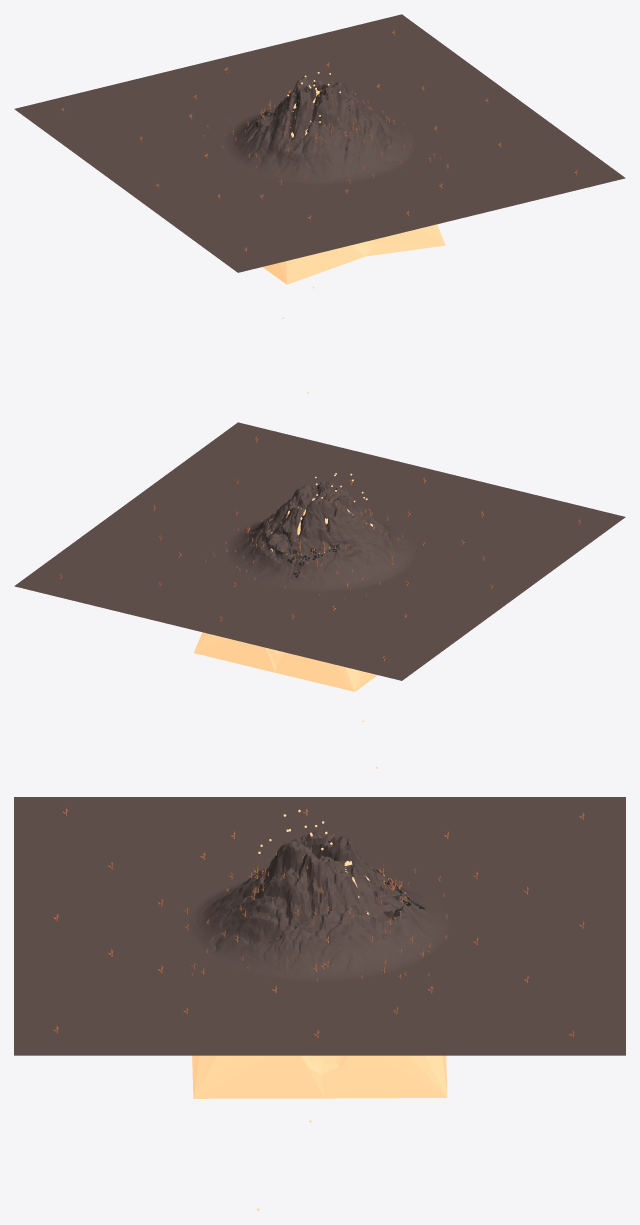
The model's file is volcanofull.fbx.
The picture shows the model from 3 angles, top to bottom: view 1: azimuth 30°, elevation 25°; view 2: azimuth 150°, elevation 25°; view 3: azimuth 270°, elevation 25°; orthographic projection. The views are drawn at different scales.
Parts seen in each view (by area): view 1: Landscape.001, Landscape.002; view 2: Landscape.001, Landscape.002; view 3: Landscape.001, Landscape.002.
Part boxes in pixels (bbox=[...]): Landscape.001: bbox=[14, 14, 625, 272]; Landscape.002: bbox=[263, 89, 445, 284]; Landscape.001: bbox=[14, 422, 625, 680]; Landscape.002: bbox=[194, 498, 377, 691]; Landscape.001: bbox=[14, 797, 625, 1055]; Landscape.002: bbox=[192, 861, 447, 1098].
Bounding box in the file's own units: 464 × 341 × 464.
